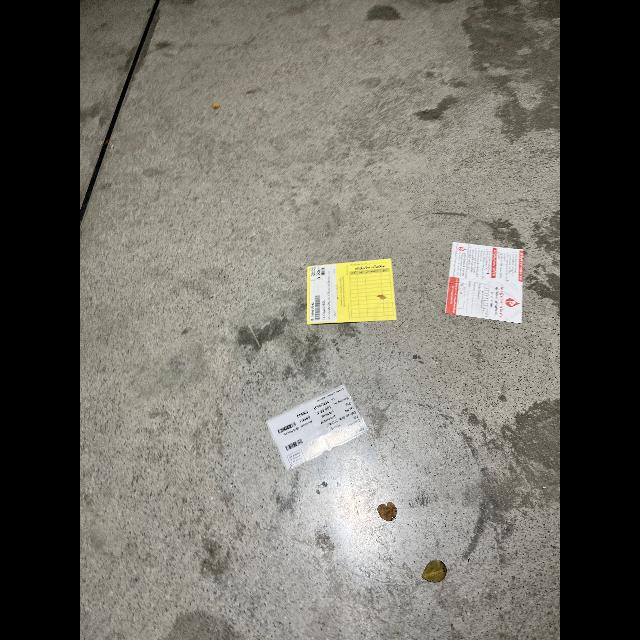scrap_paper: (254, 380, 378, 470), (441, 236, 539, 324), (302, 250, 408, 330)
